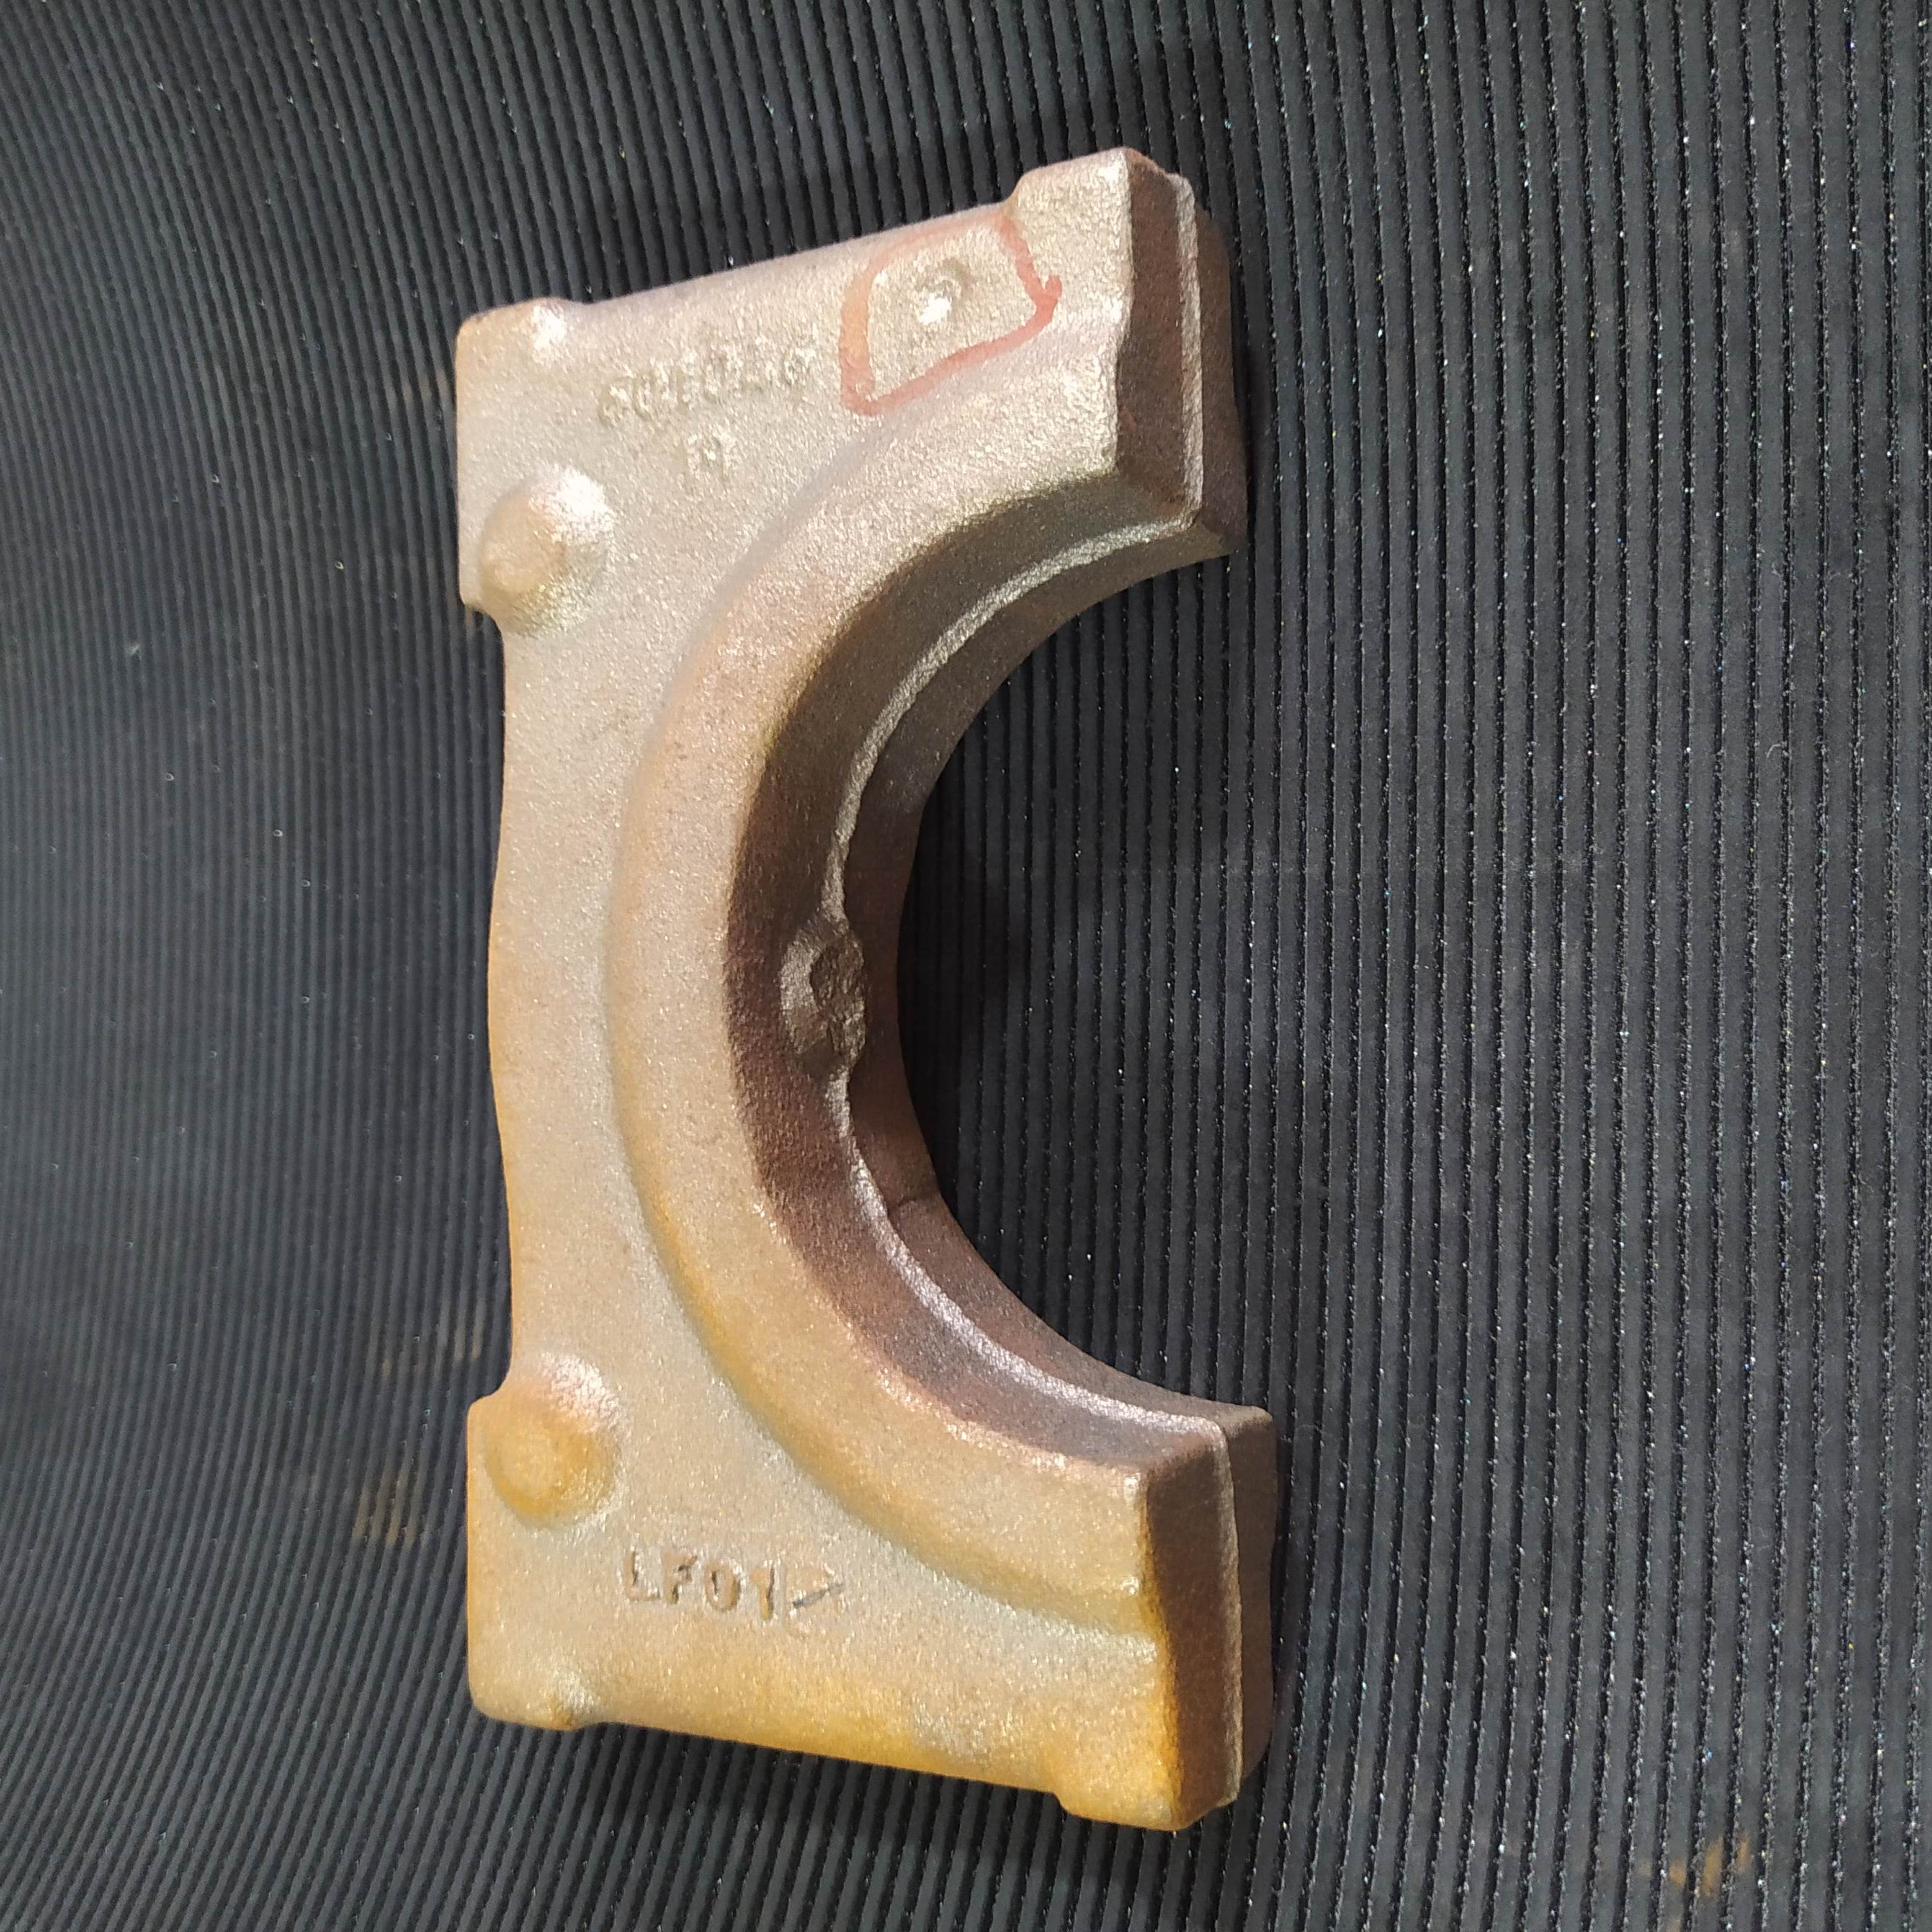buraco: (902, 255, 975, 326)
